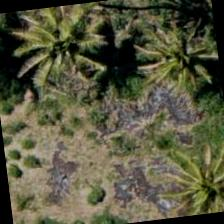Kelapa_Sawit: (15, 1, 115, 96), (135, 8, 223, 107), (161, 129, 223, 218)
